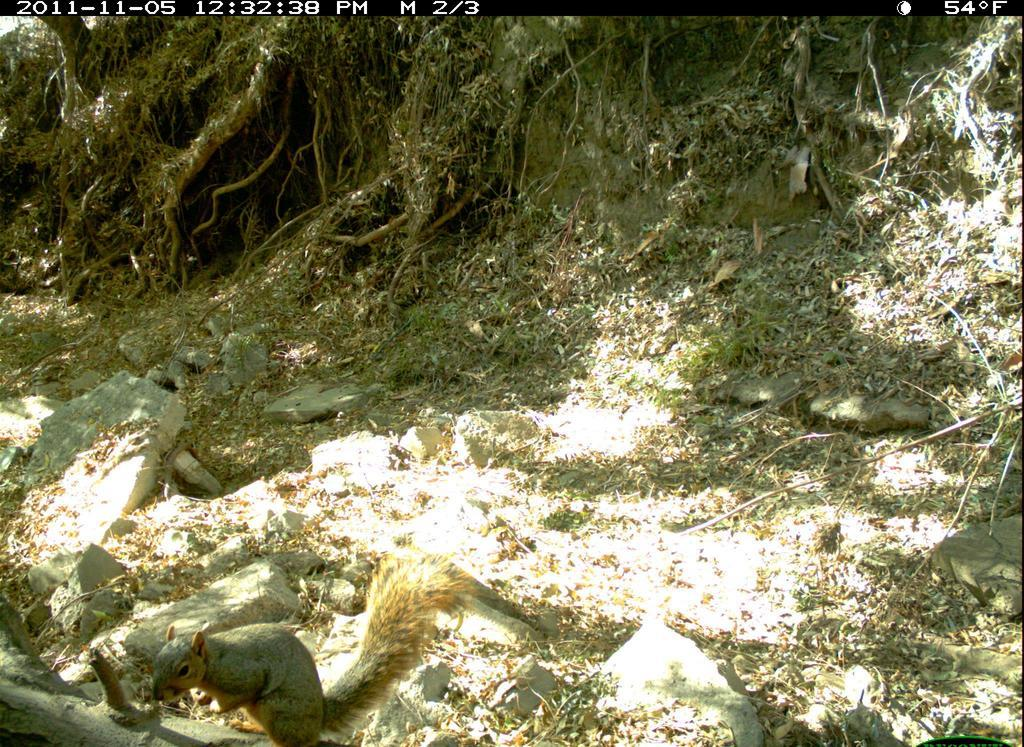squirrel: (140, 541, 484, 747)
